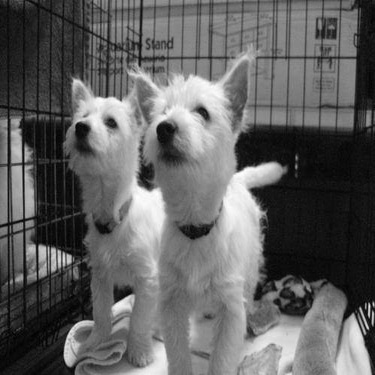dog: (119, 38, 290, 372), (57, 68, 171, 369)
